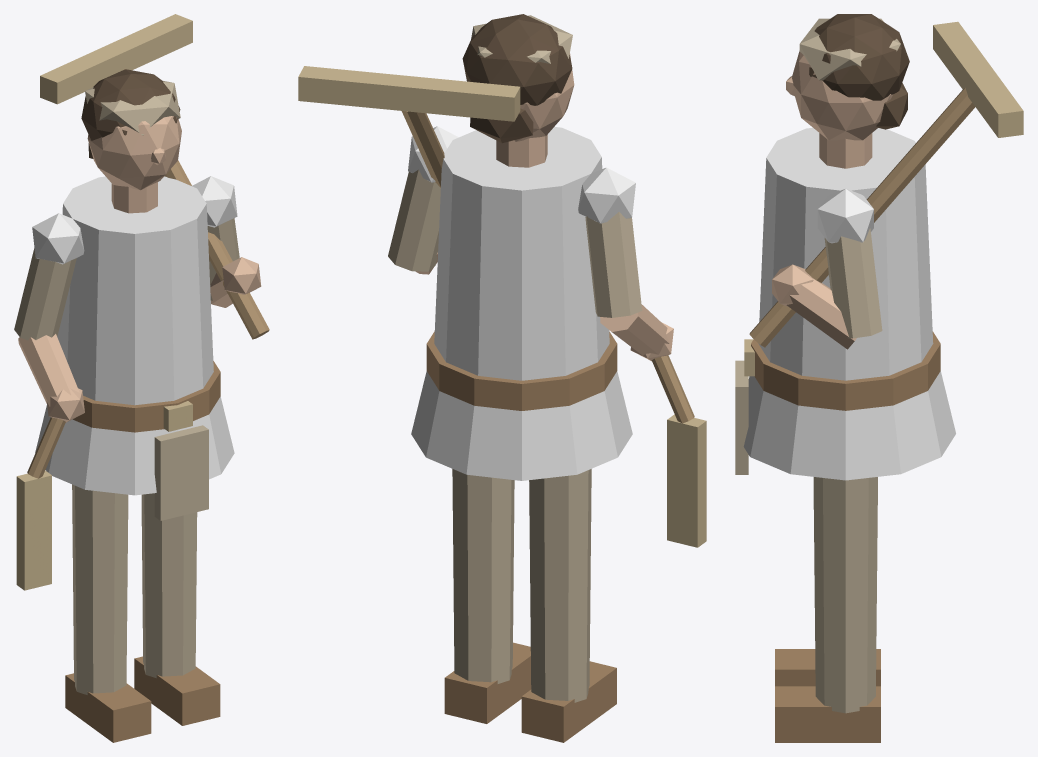
File: civ_unit_worker.glb
3 renders of one model, left to right at view 1: azimuth 30°, elevation 25°; view 2: azimuth 150°, elevation 25°; view 3: azimuth 270°, elevation 25°, orthographic. The views are drawn at different scales.
Visible parts, largest first — view 1: civ_unit_worker; view 2: civ_unit_worker; view 3: civ_unit_worker.
Boxes of the visible parts, x1,y1,x2,y2 form: civ_unit_worker: (14, 14, 269, 742); civ_unit_worker: (298, 14, 706, 742); civ_unit_worker: (735, 14, 1023, 742).
Bounding box in the file's own units: 0.7677 × 1.74 × 0.6525.
